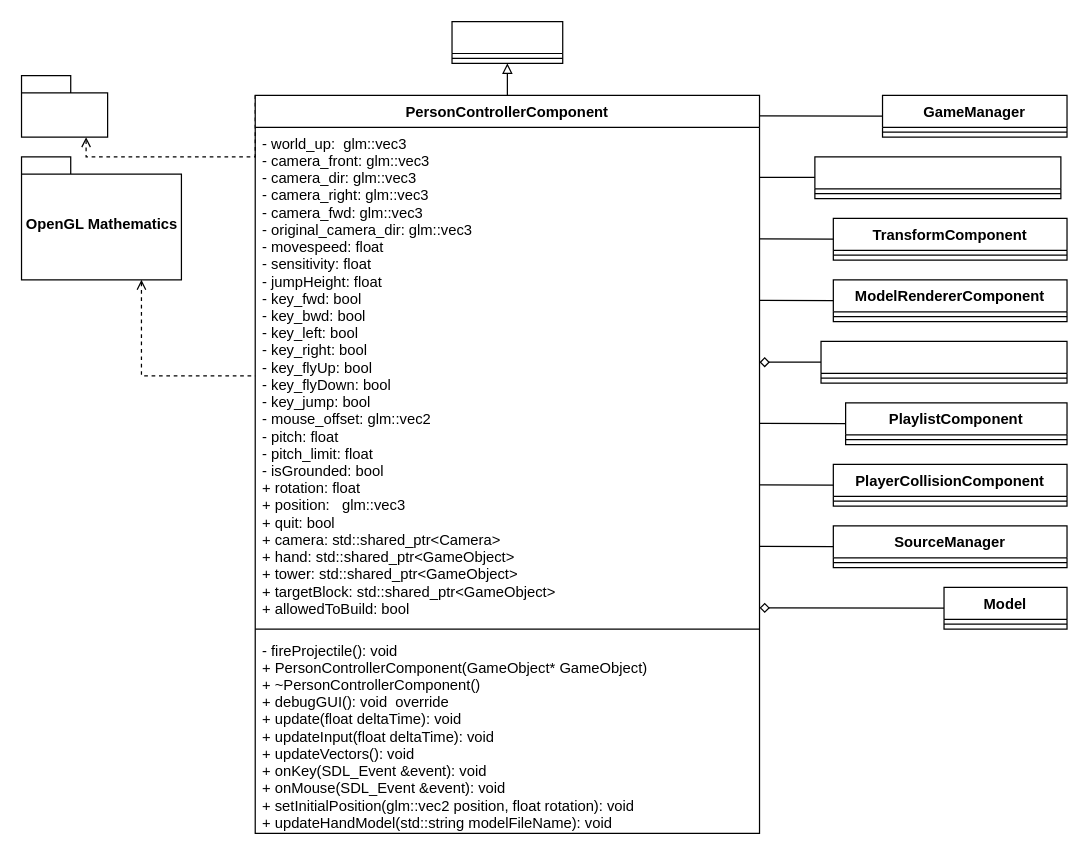
This 1089x859 diagram has some shape labels left out. Each missing label, with the centre of its shape:
CameraComponent: (943,361)
Component: (507,41)
RigidBodyComponent: (937,177)
SDL: (64,105)
